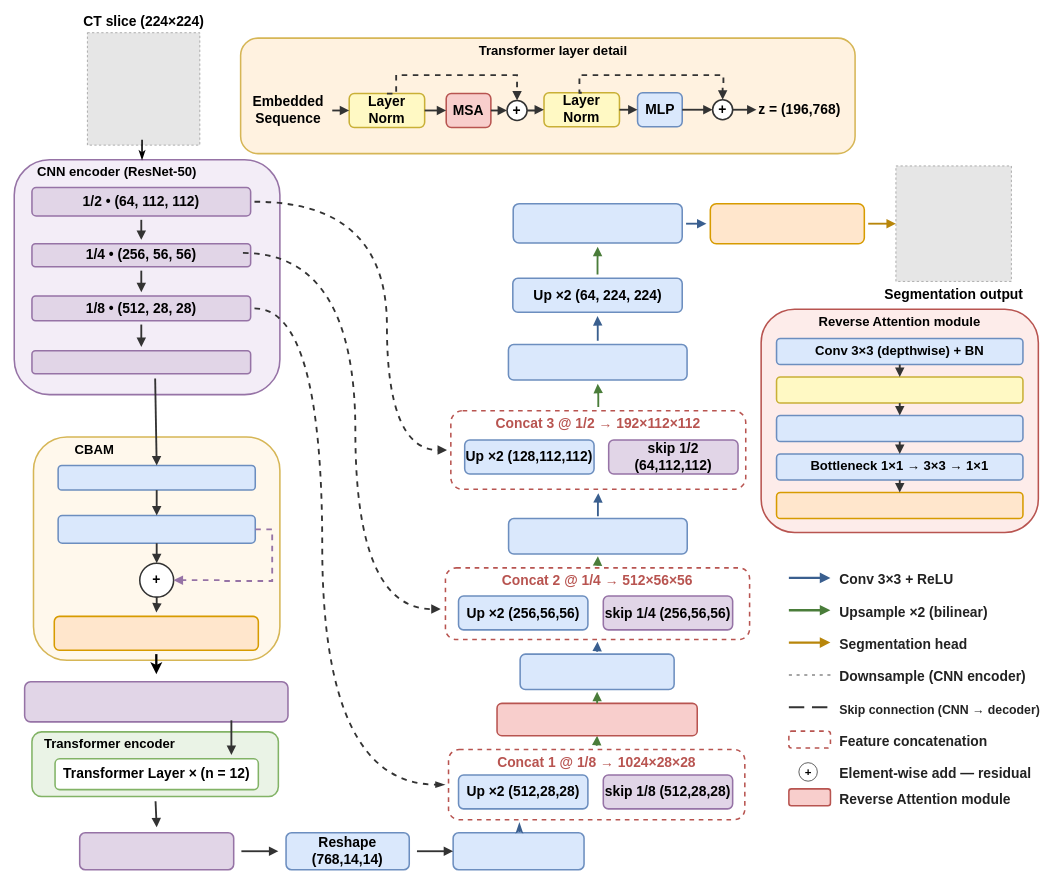
Image size: 1060x883. Some labels were removed from this diagram. Grey dashed boxes stand in for pictures. The centre of each missing label's shape, as x and y in pixels:
1/16 • F (1024, 14, 14): [141,362]
Channel Attention: [156,477]
Conv 3×3 (128, 56, 56): [597,535]
Conv 3×3 (16, 224, 224): [597,223]
Conv 3×3 (256, 28, 28): [597,671]
Conv 3×3 (512,14,14): [518,851]
Conv 3×3 (64, 112, 112): [597,361]
Hidden Feature (196,768): [156,851]
Linear Projection (Patch Embedding): [155,701]
Refined hidden feature (1024,14,14): [156,633]
Reverse Attention (after Concat 1): [597,719]
reverse map = 1 − σ(·): [899,389]
Segmentation head Conv 3×3: [787,223]
Spatial Attention: [156,529]
⊕ input feature → output: [899,505]
⊙ input feature: [899,428]
